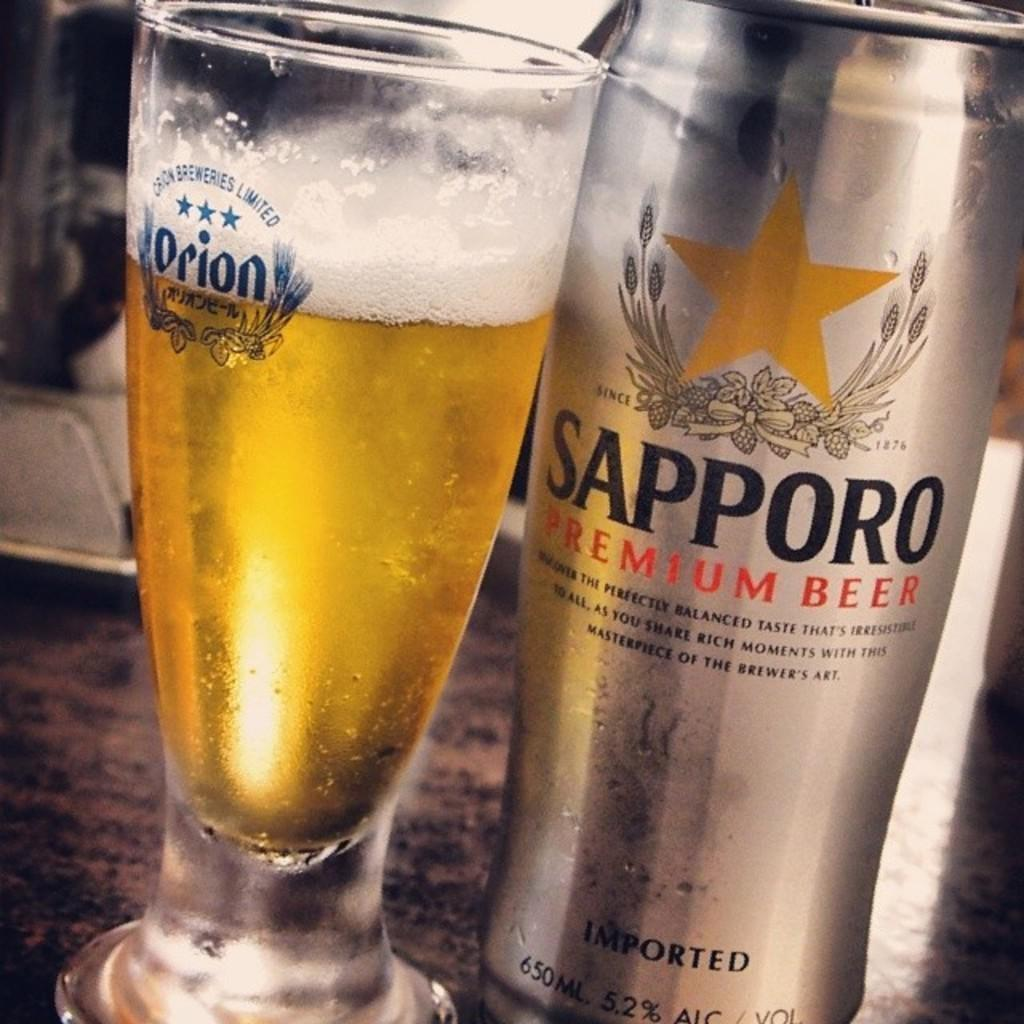glass-normal: (51, 1, 609, 1024)
tin can: (479, 1, 1022, 1022)
